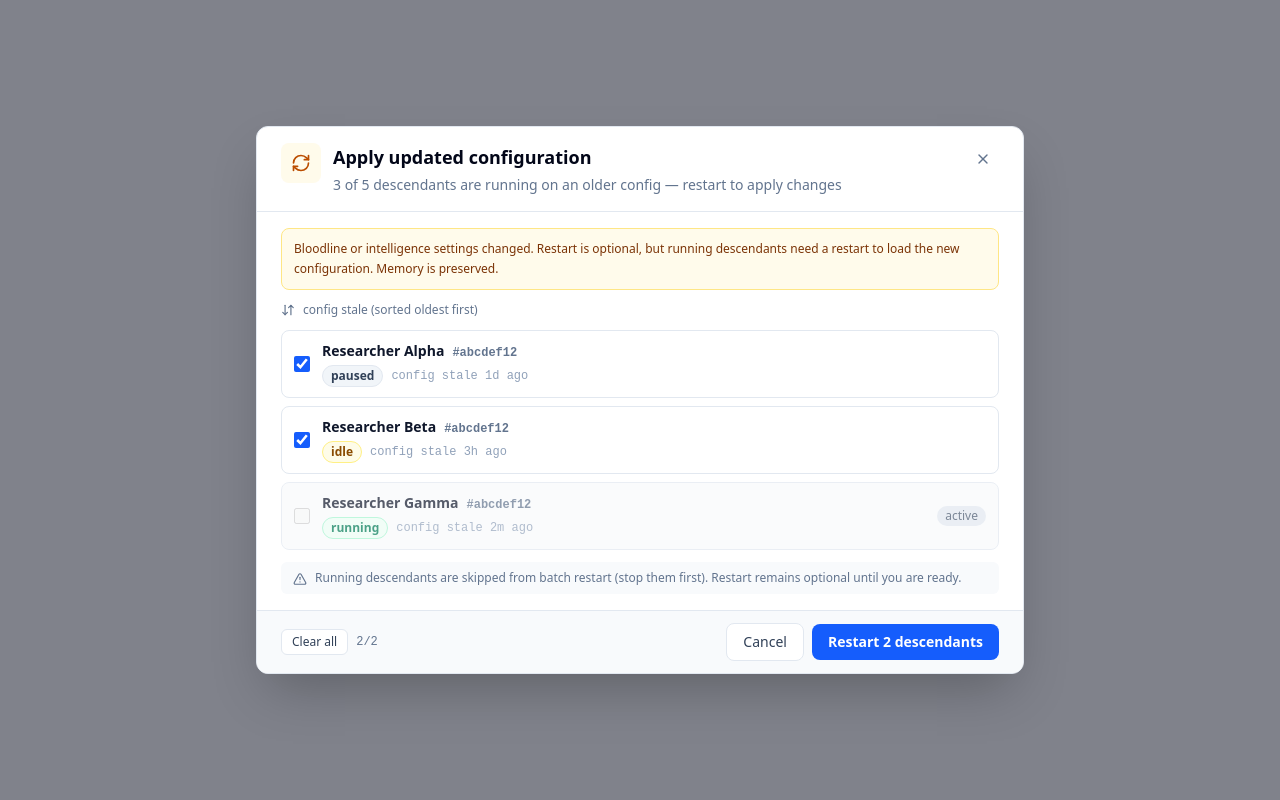
BatchRestartModal › toggles a checkbox and updates the selected count
The width and height of the screenshot is (1280, 800).
Click the checkbox with test id "batch-restart-checkbox-inst-1" at x=302, y=364, box x1=294 y1=356 x2=310 y2=372
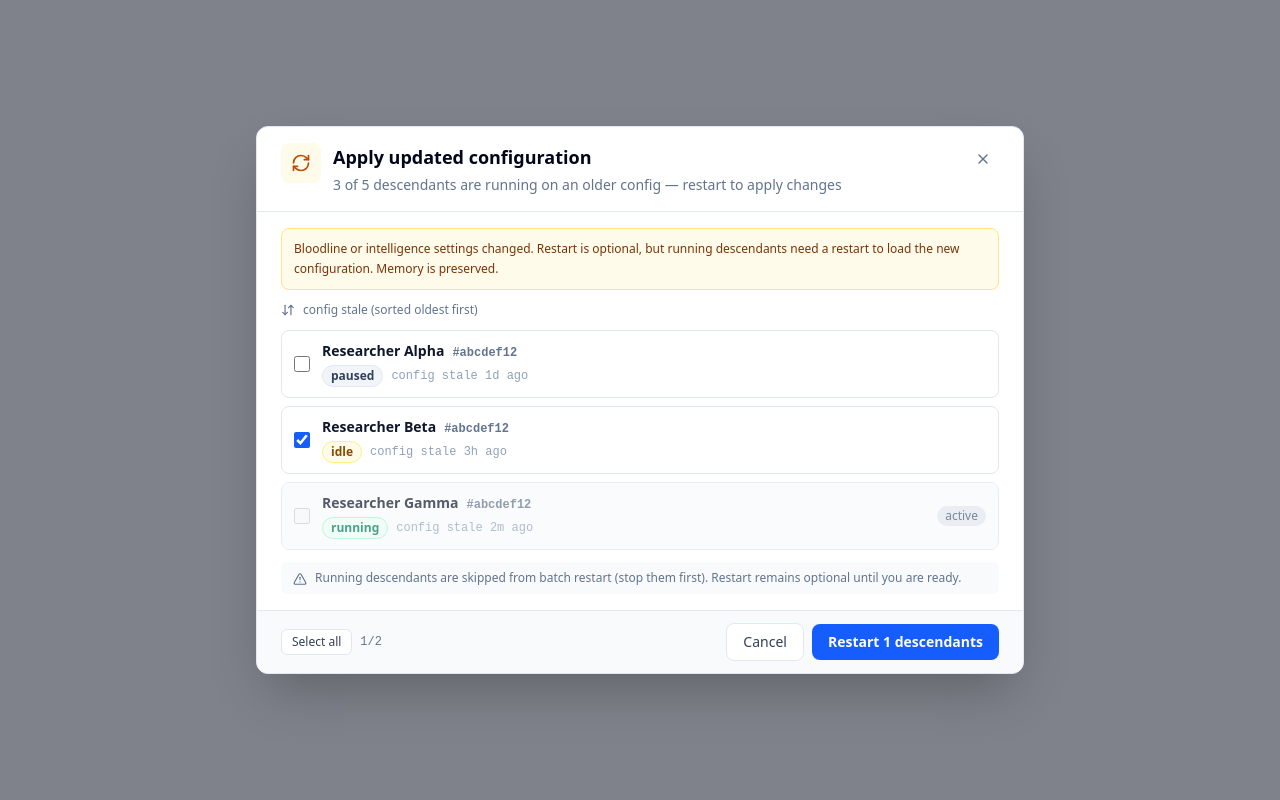
Expected: the checkbox with test id "batch-restart-checkbox-inst-1" is not checked, x1=294 y1=356 x2=310 y2=372
Expected: the text with test id "batch-restart-selected-count" reads "1/2", x1=360 y1=634 x2=382 y2=650
